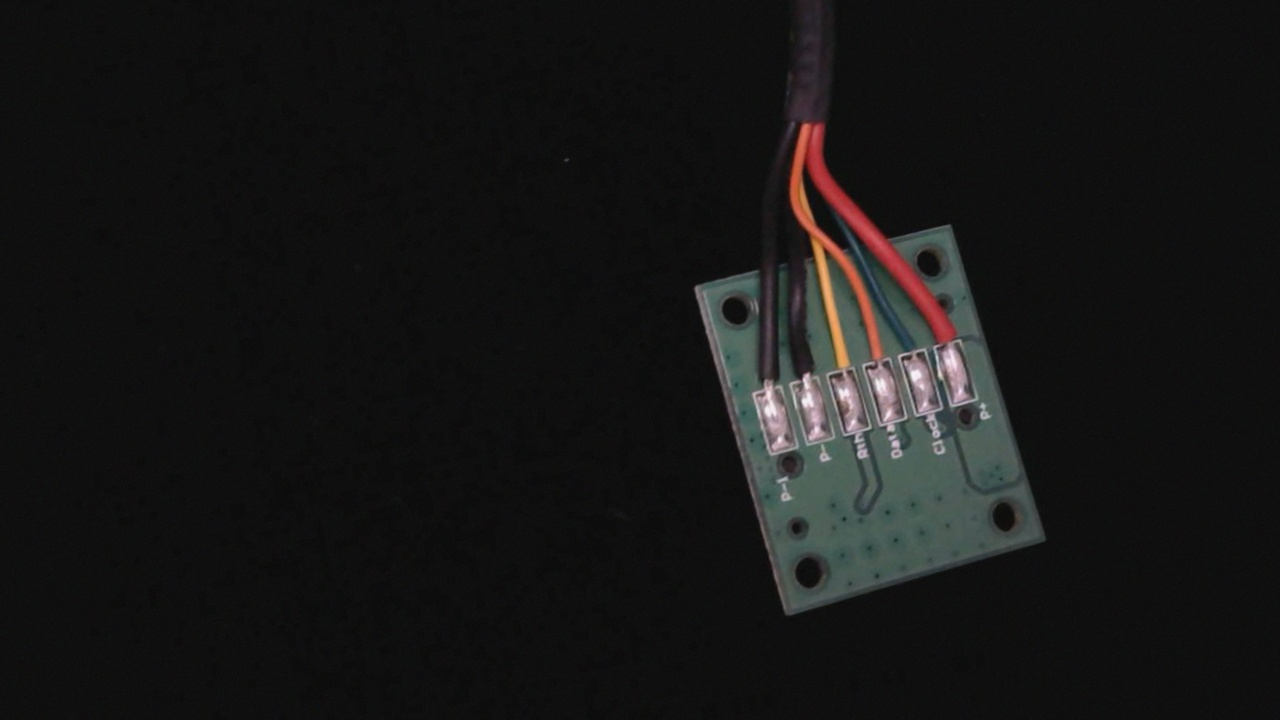Black: (783, 330, 823, 398)
Black1: (743, 339, 786, 406)
Green: (886, 317, 932, 370)
Orange: (855, 320, 896, 378)
Red: (923, 311, 970, 361)
Yellow: (818, 328, 860, 389)
